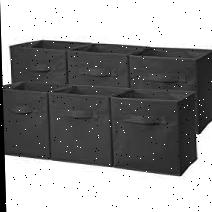cube: (109, 89, 197, 176), (46, 86, 118, 166), (2, 81, 54, 158)
